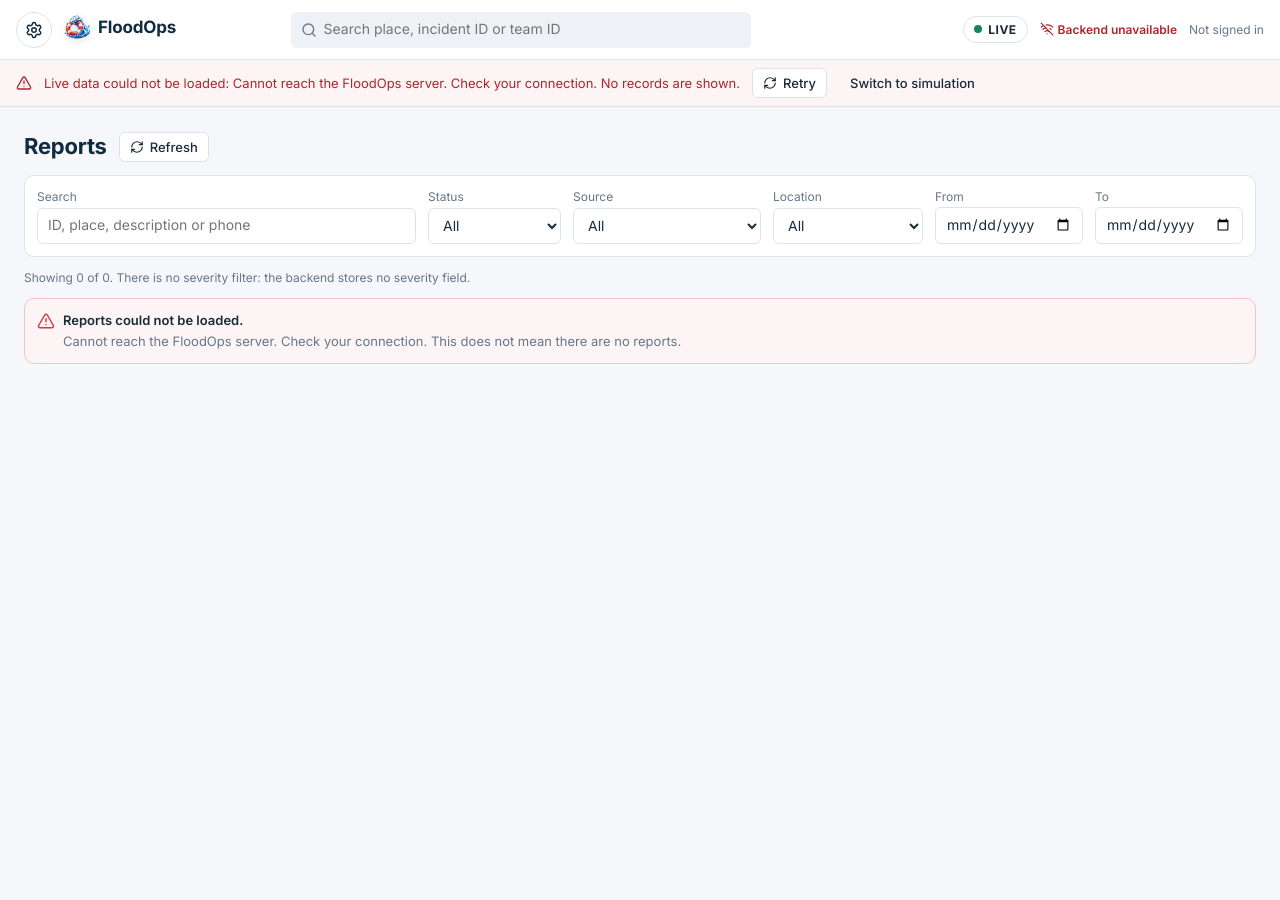
Test case: data modes › switching to simulation is explicit and visibly labelled
Click the button "Switch to simulation" at (912, 83), box [839,68,986,98]
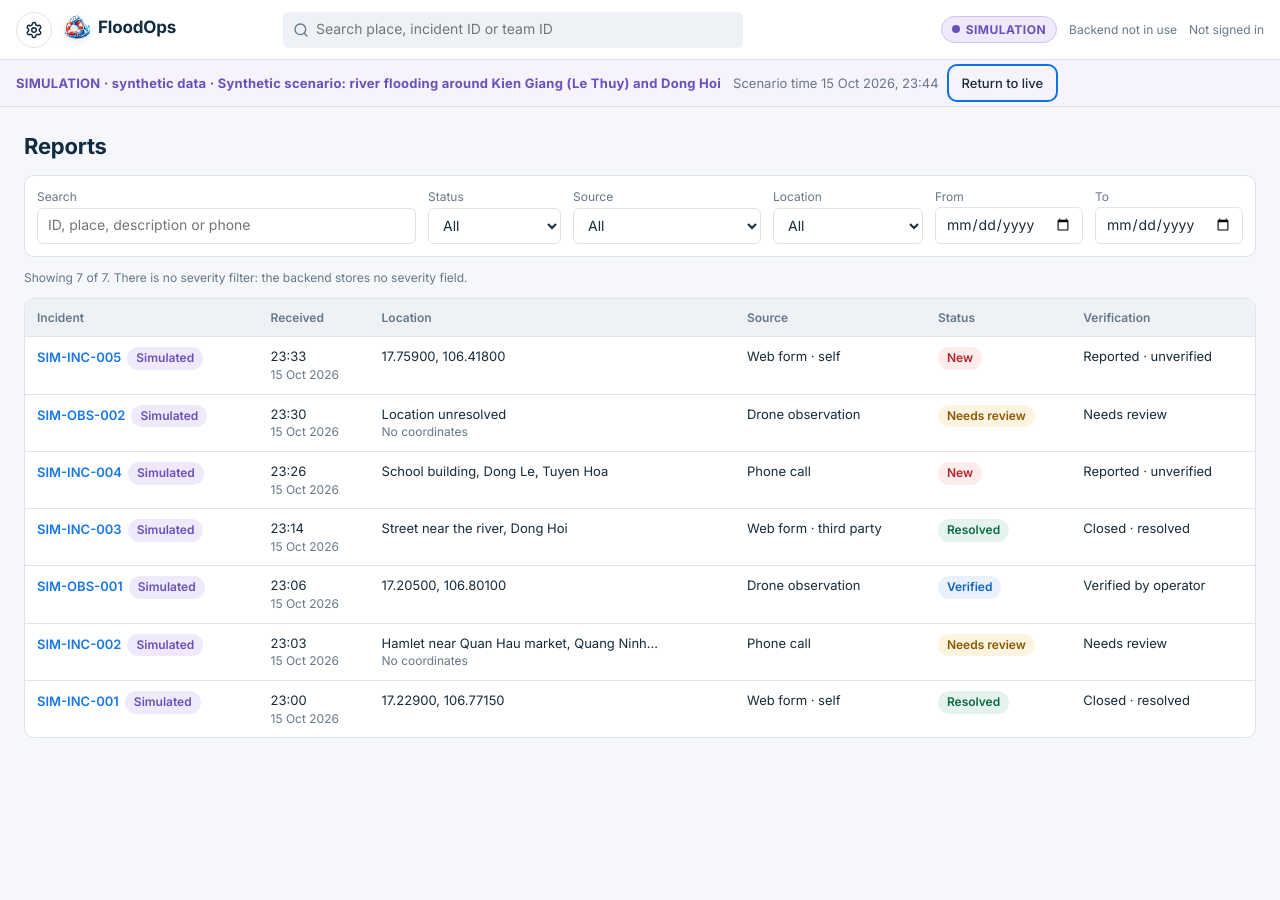
expect the text "SIMULATION" is shown: met, box [966,21,1046,38]
expect the text "SIMULATION · synthetic data" is shown: met, box [16,75,721,91]
expect the button "SIM-INC-001" is shown: met
# No backend calls are made while in simulation.
Click the button "SIM-INC-001" at (78, 701), box [37,692,119,711]
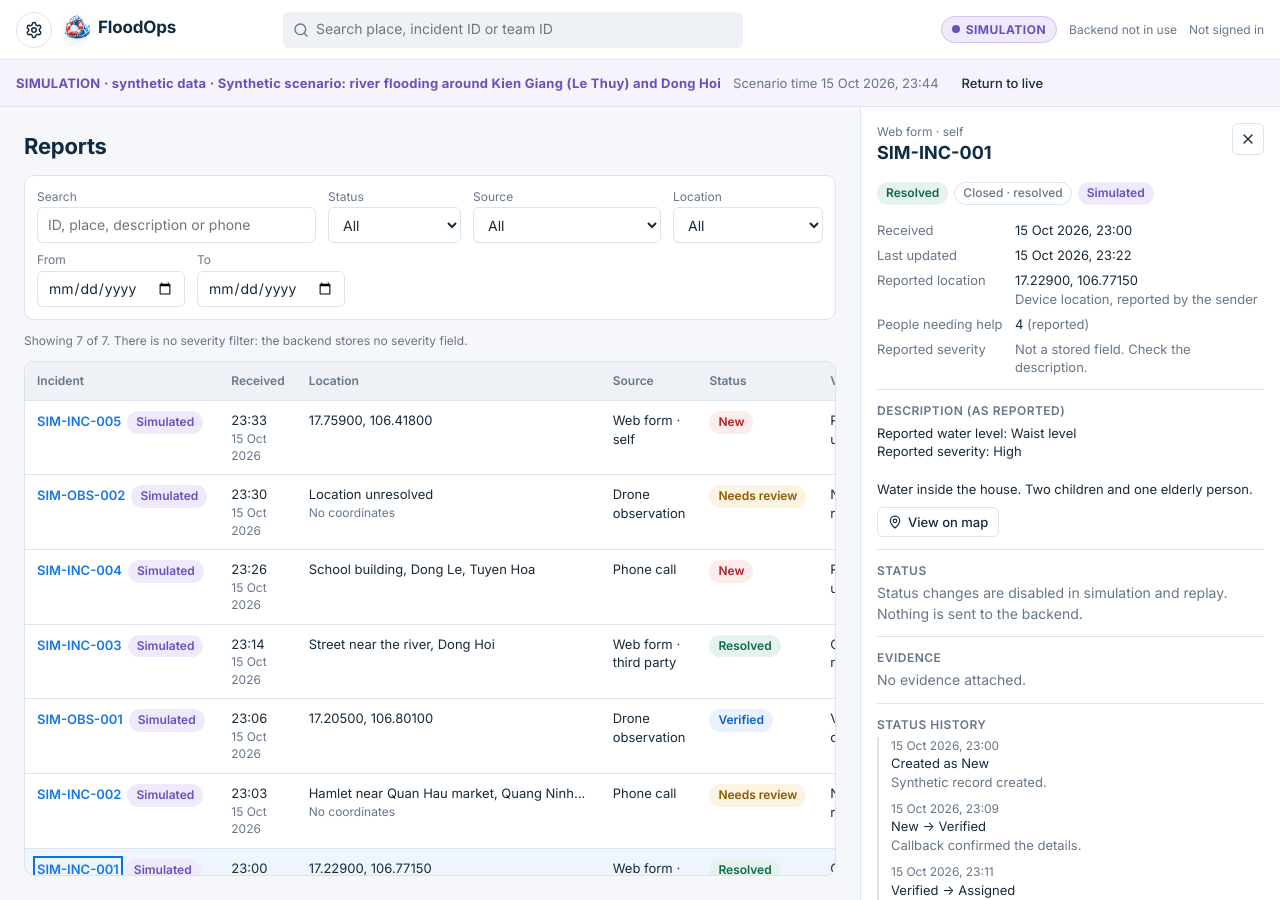
expect the text "Status changes are disabled in simulation" is shown: met, box [877,584,1228,622]
